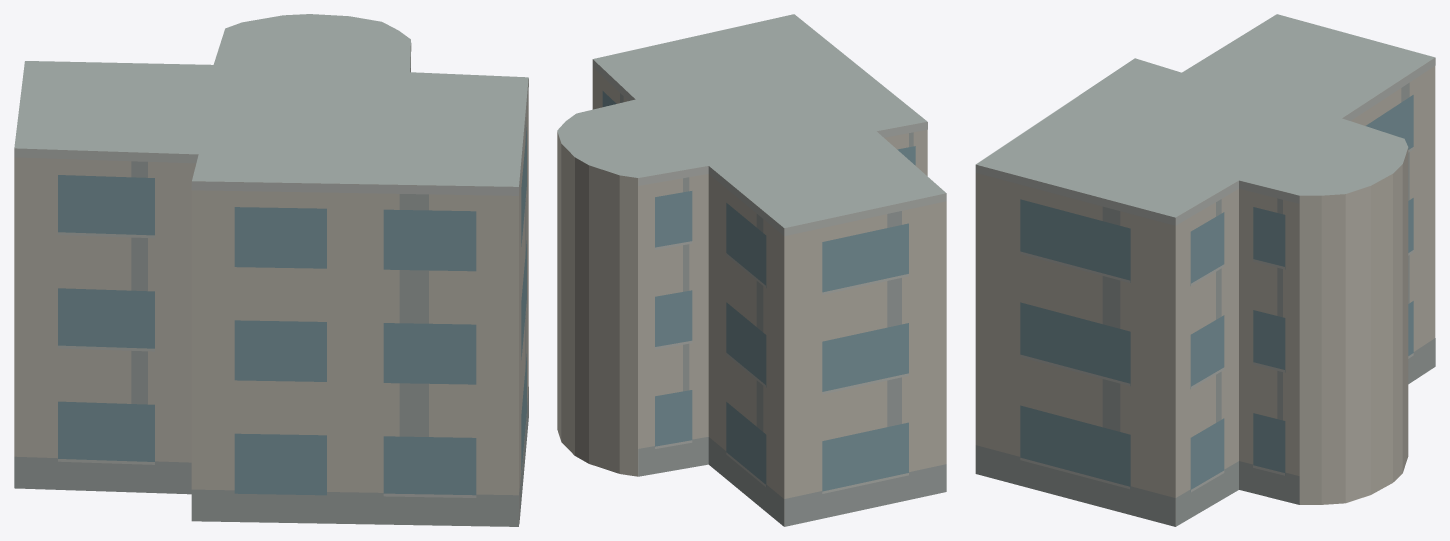
Rendered from survey-upis-32706632.glb.
3 renders of one model, left to right at view 1: azimuth 30°, elevation 25°; view 2: azimuth 150°, elevation 25°; view 3: azimuth 270°, elevation 25°, orthographic. The views are drawn at different scales.
Parts seen in each view (by area): view 1: survey-upis-32706632.tmp; view 2: survey-upis-32706632.tmp; view 3: survey-upis-32706632.tmp.
Part boxes in pixels (<box>): survey-upis-32706632.tmp: <box>14,14,528,526</box>; survey-upis-32706632.tmp: <box>557,14,946,526</box>; survey-upis-32706632.tmp: <box>975,14,1435,526</box>.
Bounding box in the file's own units: 12.93 × 9.15 × 12.34.
